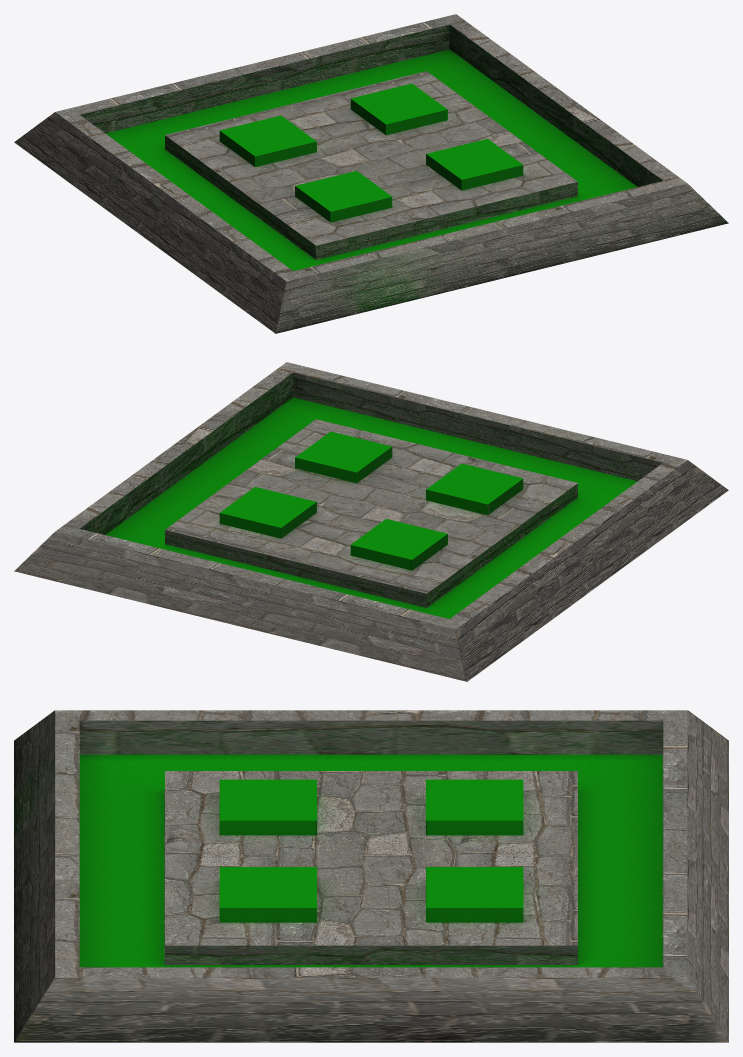
File: green_villa.gltf
3 renders of one model, top to bottom at view 1: azimuth 30°, elevation 25°; view 2: azimuth 150°, elevation 25°; view 3: azimuth 270°, elevation 25°, orthographic. The views are drawn at different scales.
Parts seen in each view (by area): view 1: green_villa_lp; view 2: green_villa_lp; view 3: green_villa_lp.
Boxes of the visible parts, x1,y1,x2,y2 form: green_villa_lp: (14, 14, 728, 333); green_villa_lp: (14, 362, 728, 681); green_villa_lp: (14, 710, 728, 1042).
Bounding box in the file's own units: 12.09 × 0.895 × 12.09.
1 material, 1 textured.
